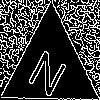N: (25, 41, 73, 99)
